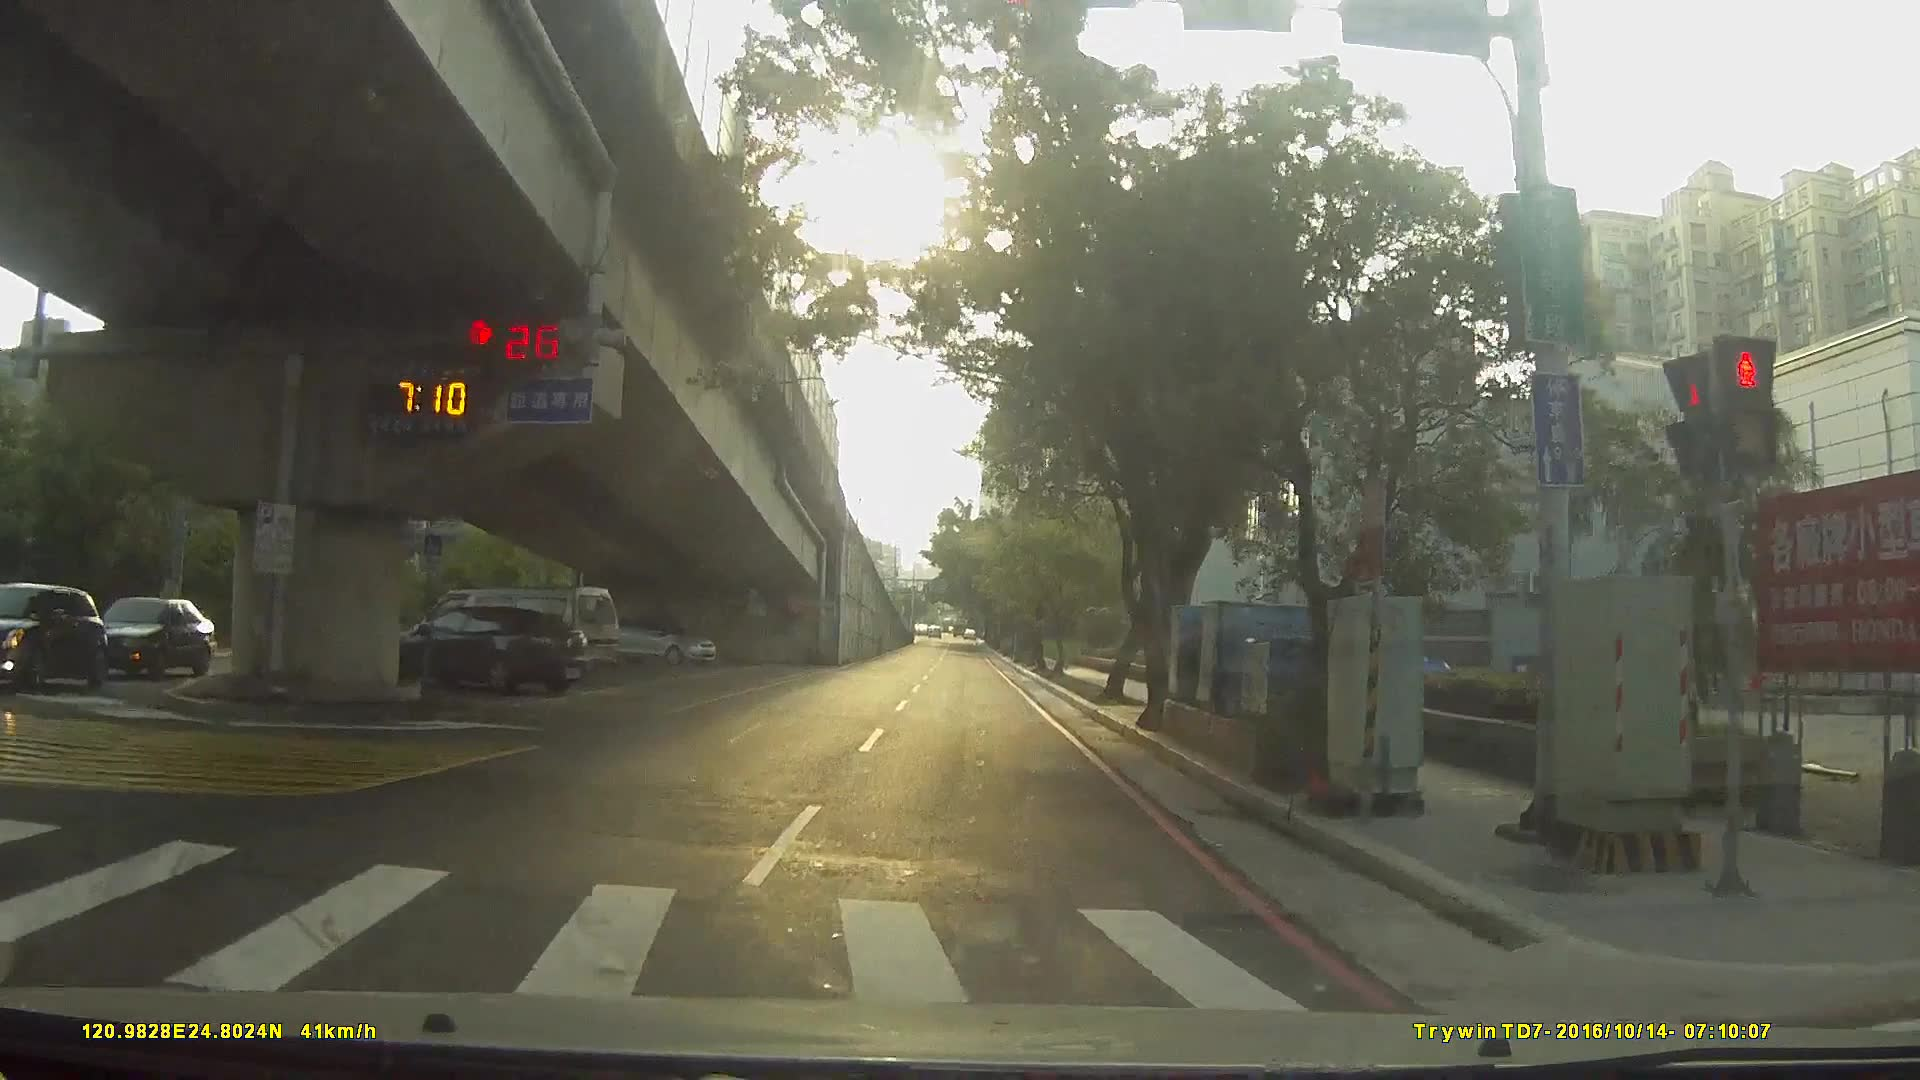vehicle: (407, 583, 615, 682), (367, 603, 580, 696), (80, 589, 224, 676), (1, 578, 113, 687), (592, 612, 716, 667)
